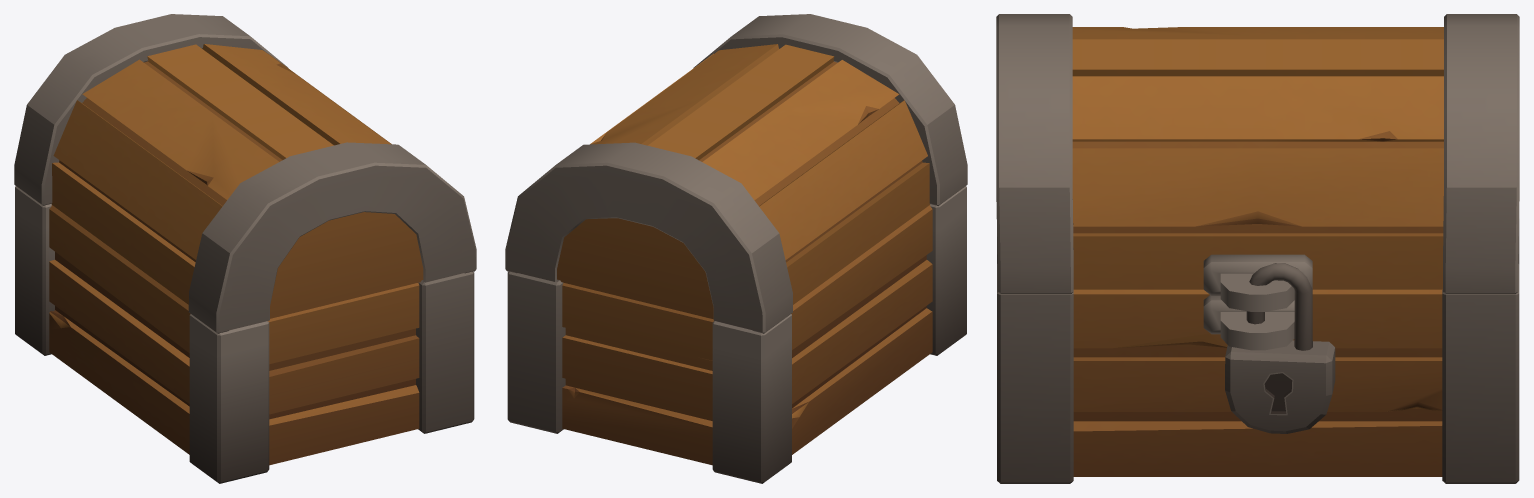
The model's file is obj_Chest.fbx.
3 renders of one model, left to right at view 1: azimuth 30°, elevation 25°; view 2: azimuth 150°, elevation 25°; view 3: azimuth 270°, elevation 25°, orthographic. The views are drawn at different scales.
Parts seen in each view (by area): view 1: obj_Chest; view 2: obj_Chest; view 3: obj_Chest.
Part boxes in pixels (bbox=[...]): obj_Chest: bbox=[14, 14, 476, 483]; obj_Chest: bbox=[505, 14, 967, 483]; obj_Chest: bbox=[996, 14, 1519, 483].
Bounding box in the file's own units: 48.61 × 43.66 × 57.26.
